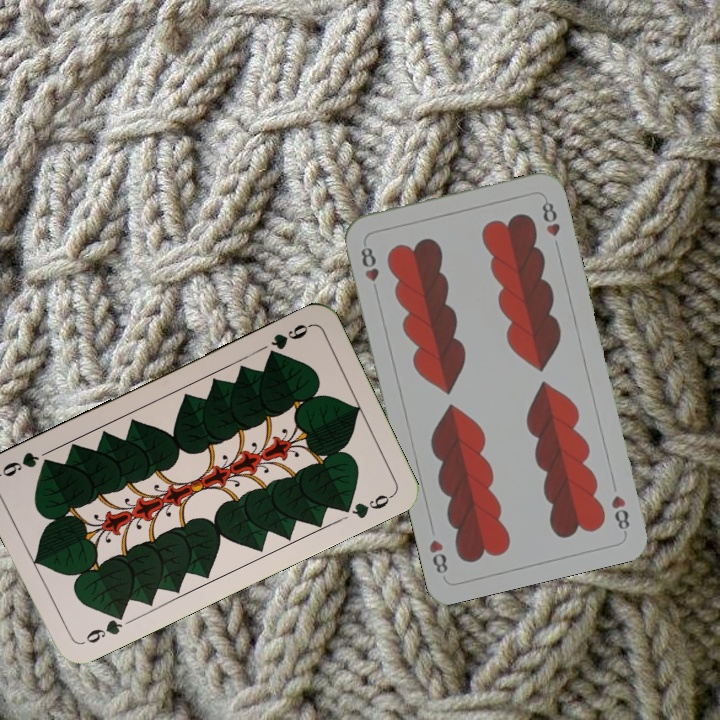G9: (263, 320, 314, 361), (81, 607, 129, 646)
H8: (357, 243, 382, 297), (607, 491, 632, 536)
